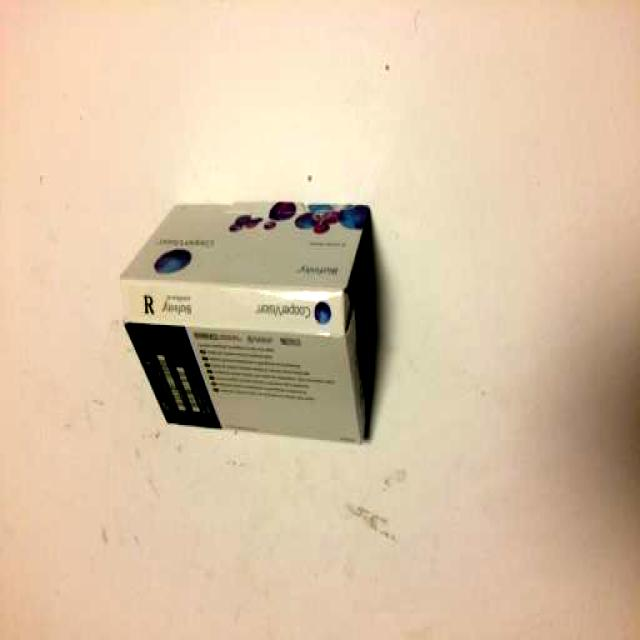Paper: (118, 203, 370, 444)
